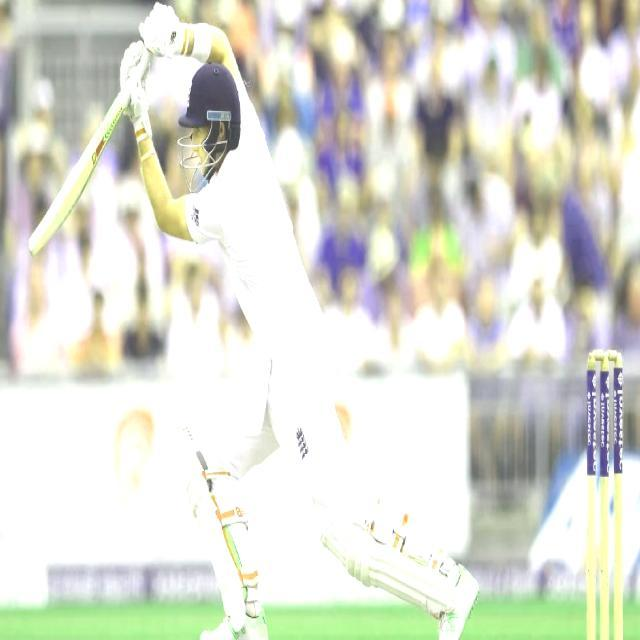bat: (23, 89, 130, 269)
toe: (25, 239, 35, 265)
